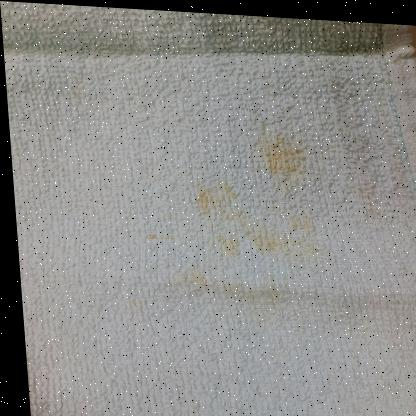spot: (262, 132, 306, 179), (212, 178, 236, 218), (250, 222, 282, 251), (190, 183, 216, 217), (282, 233, 317, 257), (178, 262, 205, 289), (213, 229, 238, 256), (231, 209, 254, 238), (139, 229, 184, 243), (286, 211, 315, 232)
